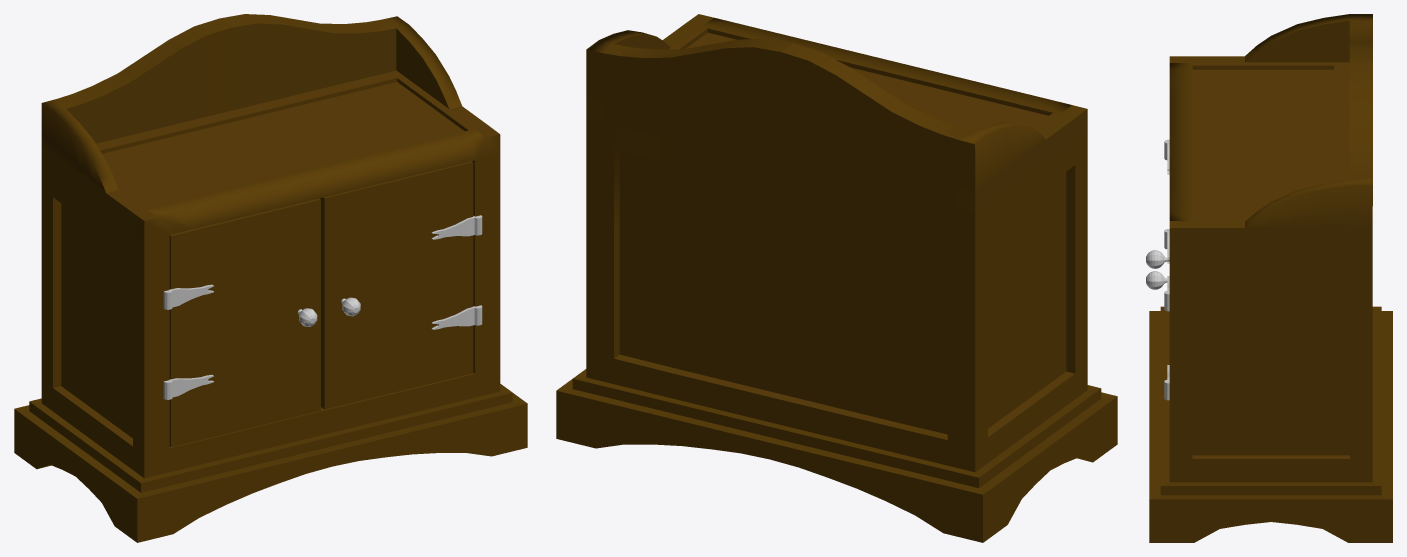
File: Chest_With_Doors_low_2.fbx
3 renders of one model, left to right at view 1: azimuth 30°, elevation 25°; view 2: azimuth 150°, elevation 25°; view 3: azimuth 270°, elevation 25°, orthographic. The views are drawn at different scales.
Parts seen in each view (by area): view 1: Chest_with_doors_low; view 2: Chest_with_doors_low; view 3: Chest_with_doors_low.
Boxes of the visible parts, x1,y1,x2,y2 form: Chest_with_doors_low: (14,14,527,542); Chest_with_doors_low: (556,14,1117,542); Chest_with_doors_low: (1146,14,1392,542).
Bounding box in the file's own units: 127 × 122 × 70.29.
